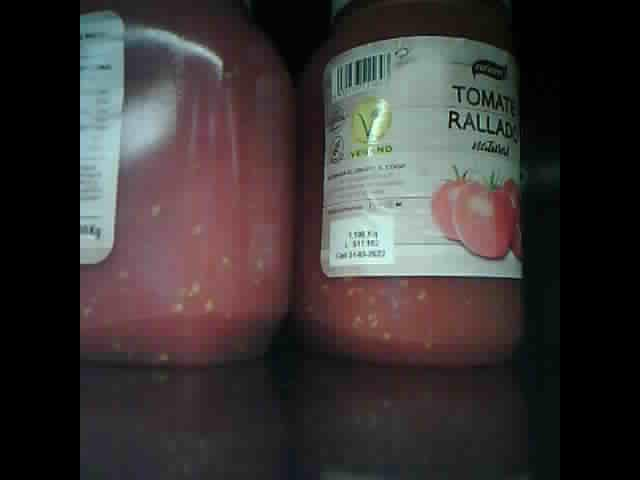tomate: (299, 1, 528, 364), (82, 3, 297, 365)
